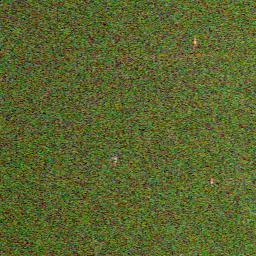Ship: (109, 152, 120, 165), (191, 33, 198, 49), (207, 176, 216, 188)
